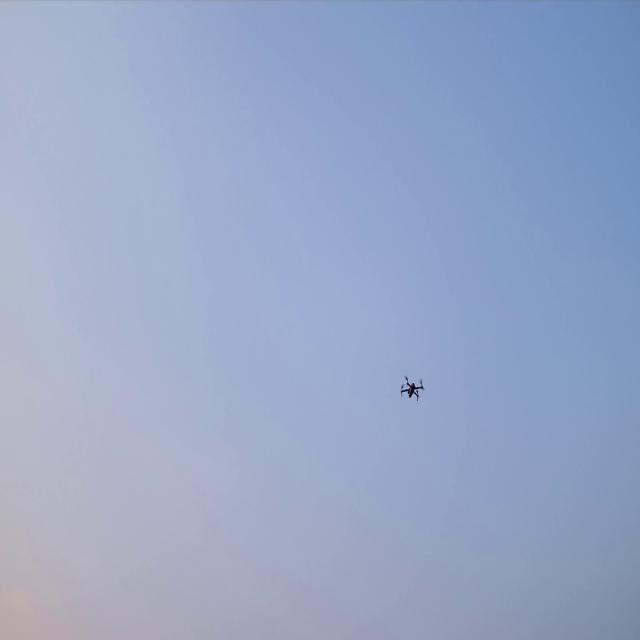UAV: (399, 373, 426, 403)
